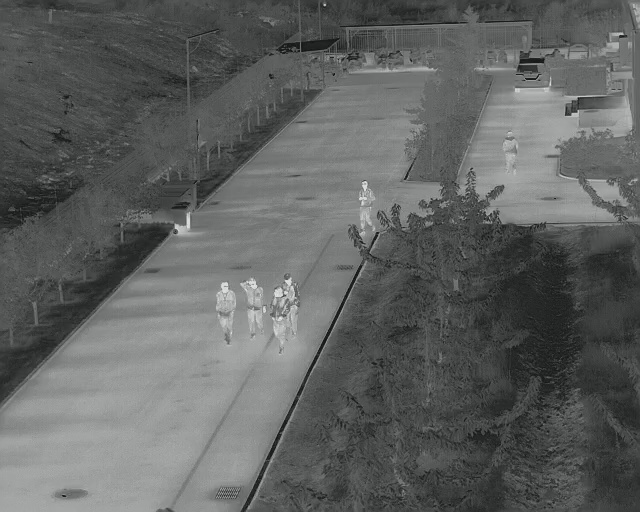person: (241, 275, 268, 342), (268, 285, 290, 355), (215, 280, 238, 343), (356, 179, 378, 236), (282, 271, 301, 337), (499, 129, 524, 175)
vehicle: (509, 56, 557, 94)
